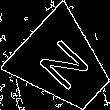N_SE: (32, 33, 96, 97)
